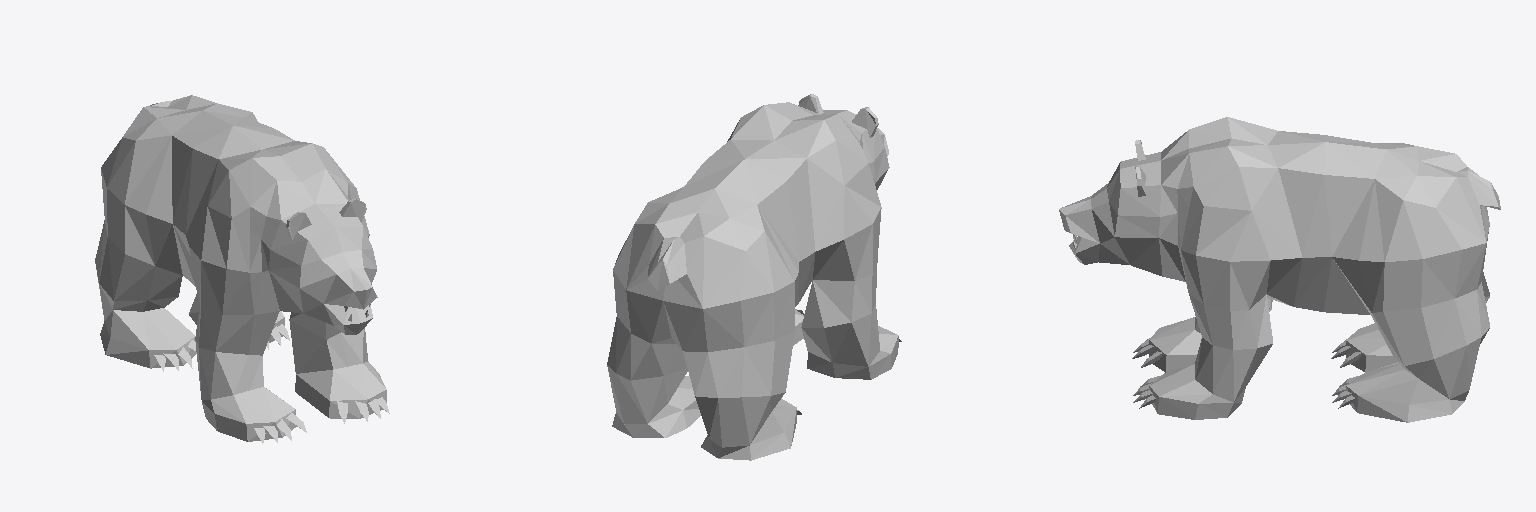
The model's file is warbears.3ds.obj.
The picture shows the model from 3 angles: view 1: azimuth 30°, elevation 25°; view 2: azimuth 150°, elevation 25°; view 3: azimuth 270°, elevation 25°; orthographic projection.
Parts seen in each view (by area): view 1: Warbear_0; view 2: Warbear_0; view 3: Warbear_0.
Boxes of the visible parts, box(x1,y1,x2,y2) form: Warbear_0: box(95, 95, 389, 443); Warbear_0: box(607, 94, 901, 460); Warbear_0: box(1059, 117, 1500, 422).
Bounding box in the file's own units: 64.35 × 88.22 × 142.